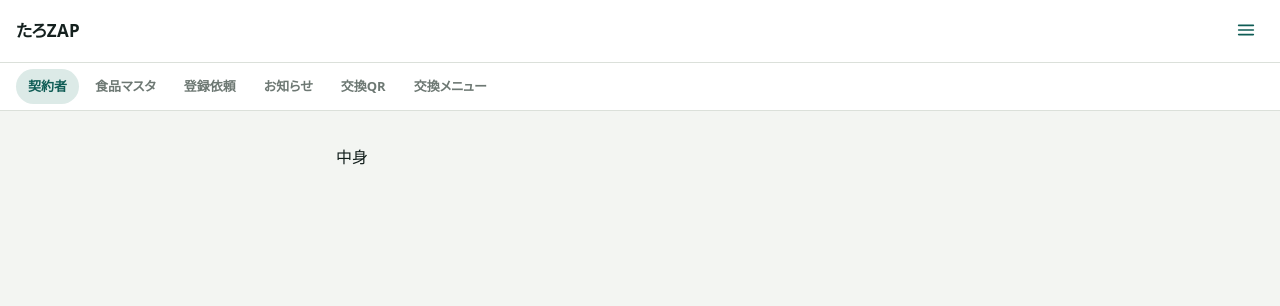
Test: 右上のメニュー › 押すと開き、3つの行き先が出る
The image size is (1280, 306).
Click the button named "メニュー" at (1246, 30), box [1228,12,1264,48]
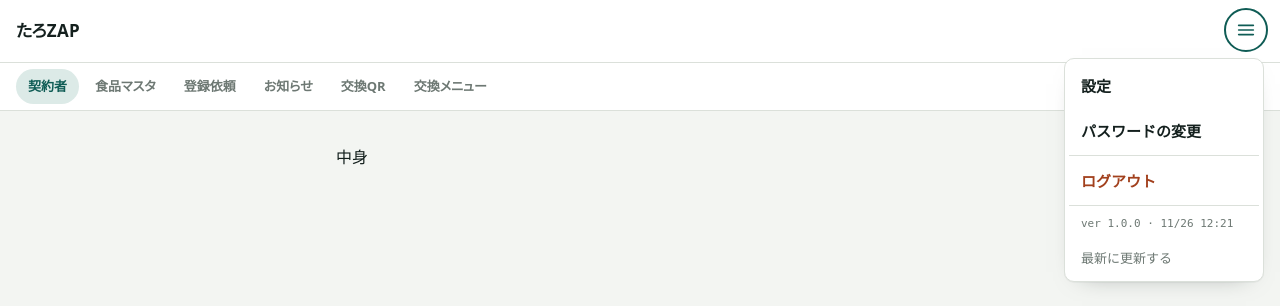
Result: the menu item "パスワードの変更" is shown at [1069,110,1259,151]
Result: the menu item "ログアウト" is shown at [1069,160,1259,201]
